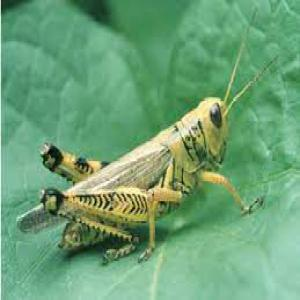locust: (21, 70, 259, 261)
